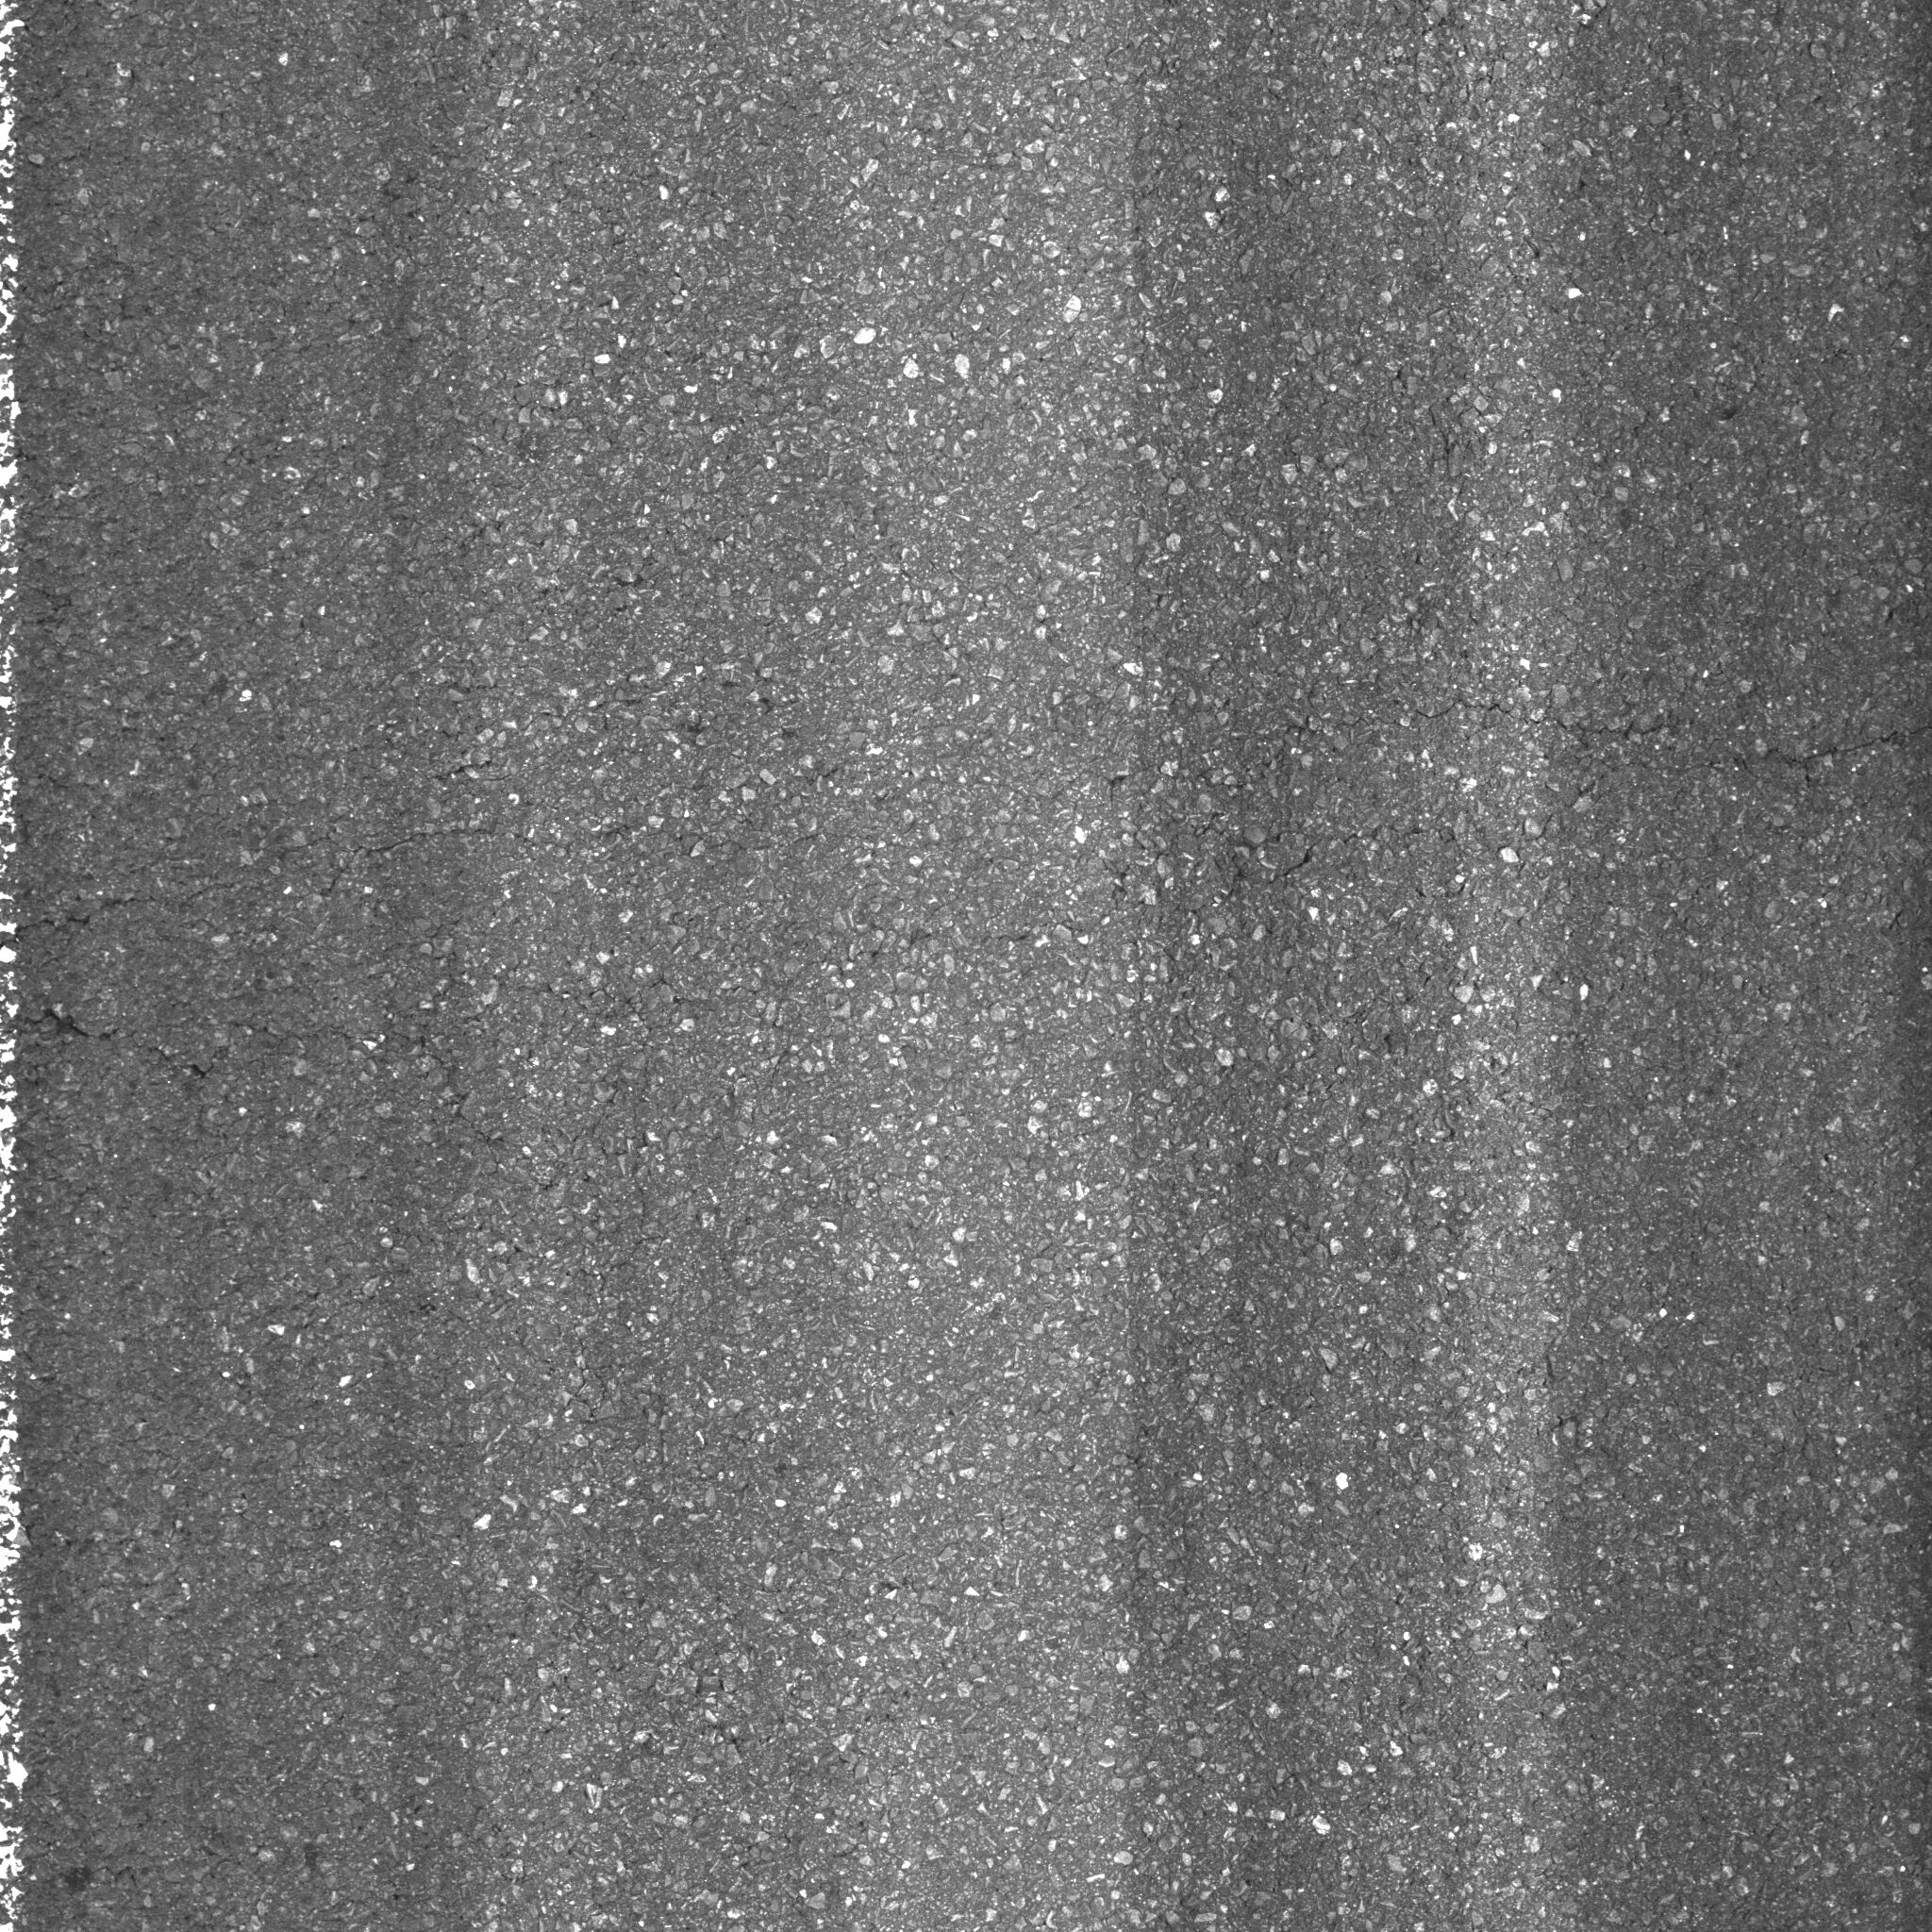transeverse: (1373, 660, 1932, 816), (23, 805, 517, 941), (23, 968, 506, 1088)
